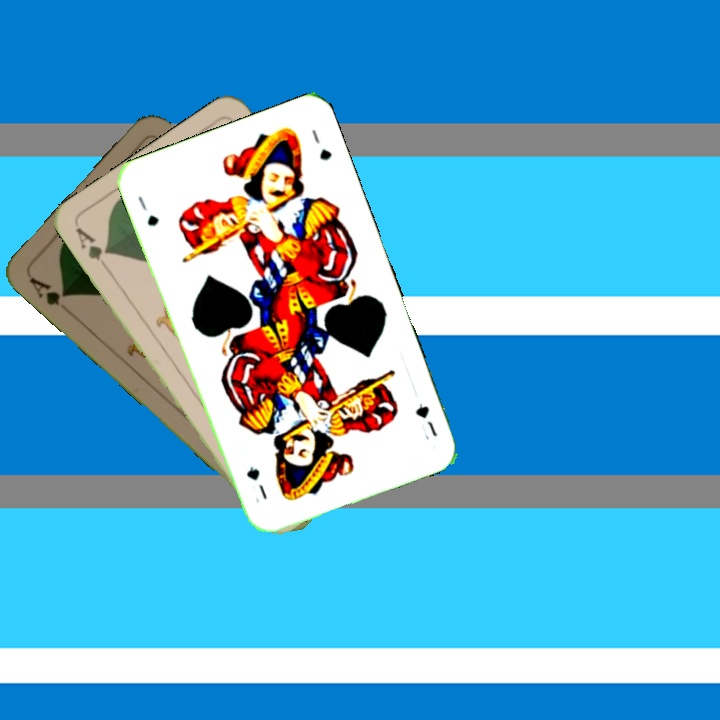GA: (71, 223, 113, 274), (25, 273, 72, 309)
GU: (411, 399, 440, 443), (133, 192, 162, 229)
